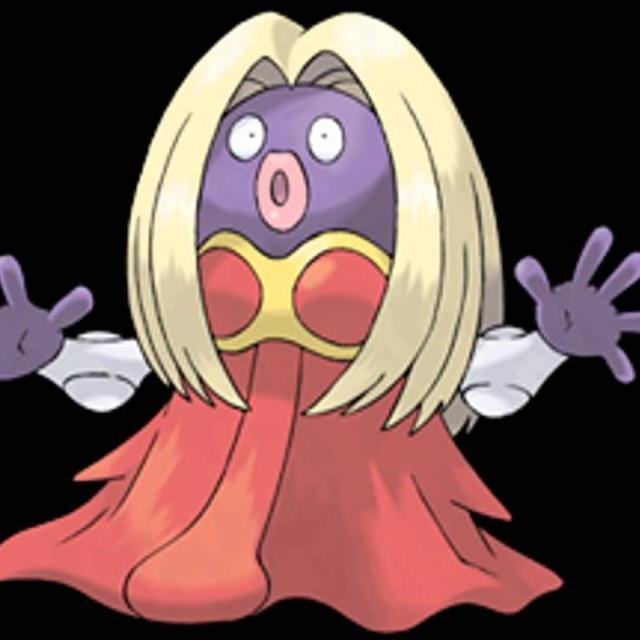Jynx: (123, 12, 506, 615)
